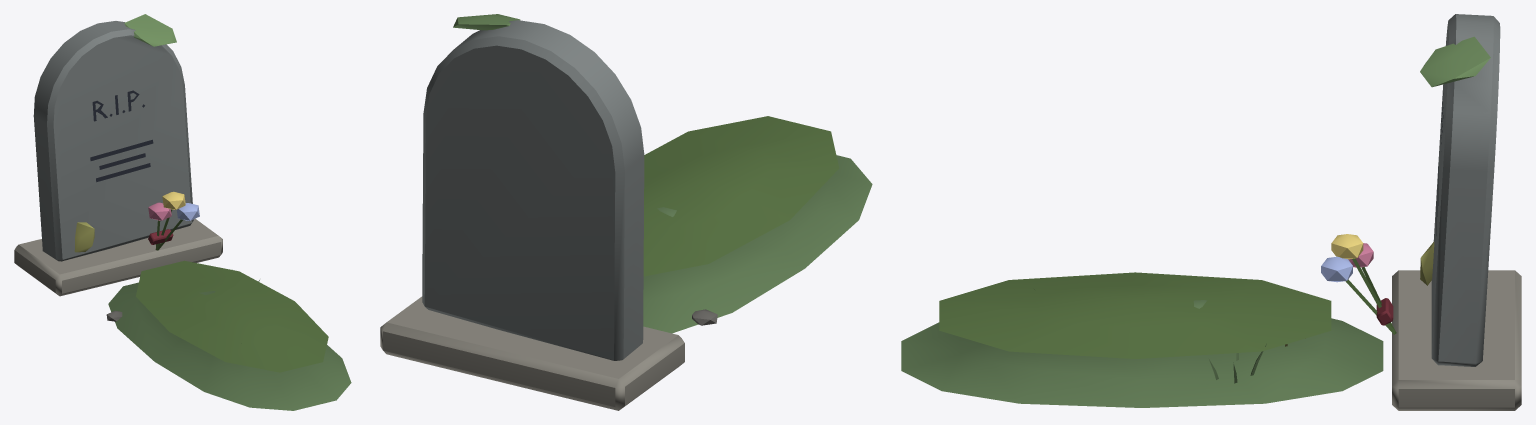
The model's file is grave_marked_rounded.glb.
3 views of the same model, side by side, from view 1: azimuth 30°, elevation 25°; view 2: azimuth 150°, elevation 25°; view 3: azimuth 270°, elevation 25° (orthographic). The views are drawn at different scales.
Visible parts, largest first — view 1: grave_marked_rounded, flag, sign; view 2: grave_marked_rounded; view 3: grave_marked_rounded, flag.
Boxes of the visible parts, x1,y1,x2,y2 form: grave_marked_rounded: [14, 14, 351, 410]; flag: [148, 191, 199, 250]; sign: [90, 90, 153, 182]; grave_marked_rounded: [380, 14, 872, 410]; grave_marked_rounded: [901, 14, 1521, 410]; flag: [1321, 234, 1396, 334].
Bounding box in the file's own units: 0.8 × 1.06 × 1.81.
